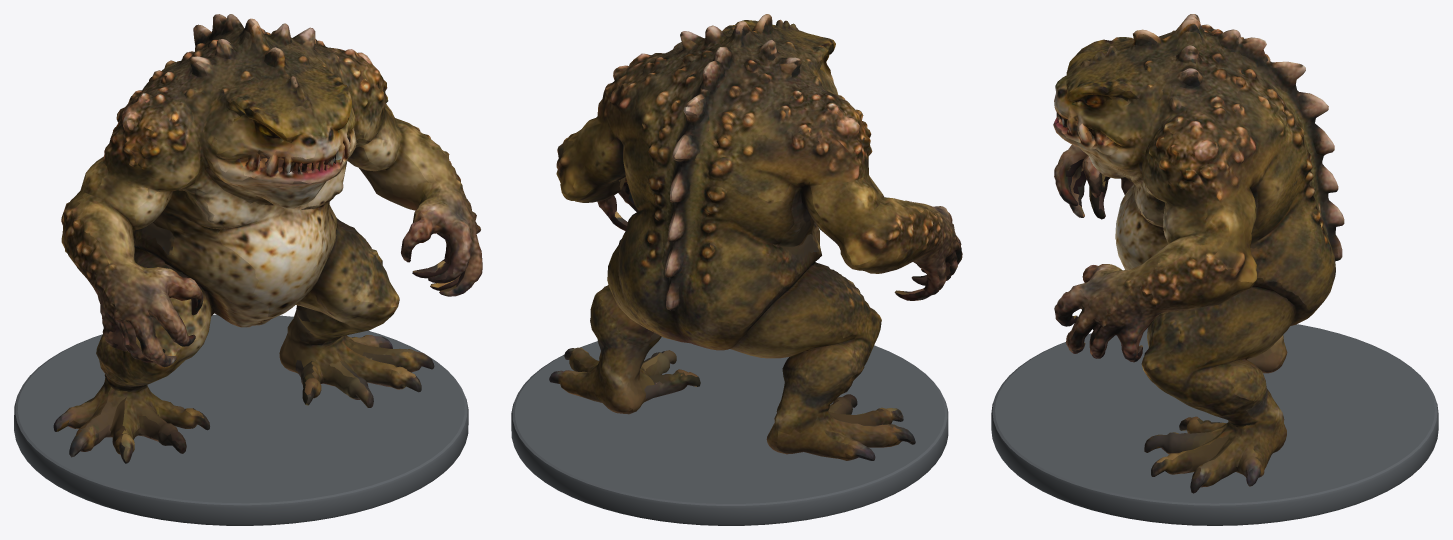
The model's file is hezrou.glb.
The picture shows the model from 3 angles, left to right: view 1: azimuth 30°, elevation 25°; view 2: azimuth 150°, elevation 25°; view 3: azimuth 270°, elevation 25°; orthographic projection. The views are drawn at different scales.
Parts seen in each view (by area): view 1: hezrou_body, hezrou_round_base; view 2: hezrou_body, hezrou_round_base; view 3: hezrou_body, hezrou_round_base.
Boxes of the visible parts, x1,y1,x2,y2 form: hezrou_body: (53,14,482,463); hezrou_round_base: (14,314,468,525); hezrou_body: (549,14,962,460); hezrou_round_base: (511,337,948,525); hezrou_body: (1053,14,1344,493); hezrou_round_base: (991,324,1438,525).
Size of the model in its own units: 1 by 1.02 by 1.
Materials: 2 (1 with a texture image).
